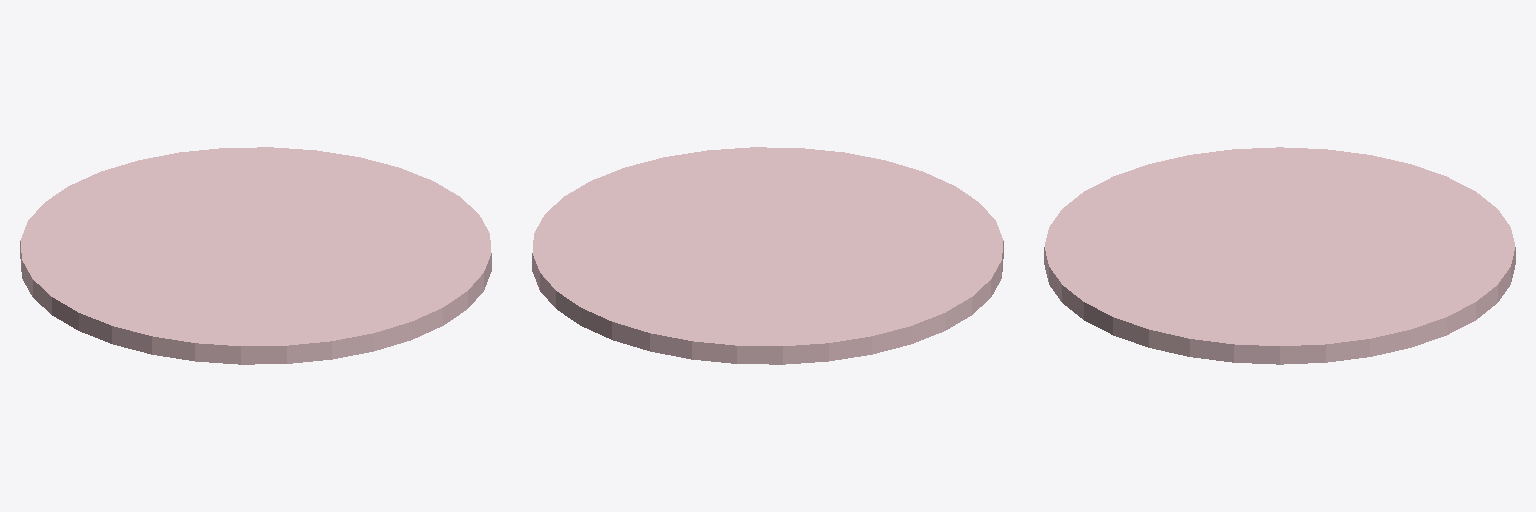
robot.urdf — ham_slice:
<robot name="ham_slice">
  <link name="ham_slice">
    <collision>
      <origin xyz="0.0 0.0 0.0015"/>
      <geometry>
        <cylinder radius="0.035" length="0.003"/>
      </geometry>
    </collision>
    <visual>
      <origin xyz="0.0 0.0 0.0015" />
      <material name="pink meat">
        <color rgba="0.94 0.82 0.84 1.0" />
      </material>
      <geometry>
        <cylinder radius="0.035" length="0.003"/>
      </geometry>
    </visual>
  </link>
</robot>

--- What the picture shows (computed from the rendered views, not written in the file) ---
Views: 3 orthographic renders of the robot side by side, from view 1: azimuth 30°, elevation 25°; view 2: azimuth 150°, elevation 25°; view 3: azimuth 270°, elevation 25°.
Model ham_slice with 1 links and 0 joints (none), rooted at ham_slice, posed every joint at zero.
Visible links, largest first — view 1: ham_slice; view 2: ham_slice; view 3: ham_slice.
Link boxes in pixels (<box>): ham_slice: <box>20,147,491,364</box>; ham_slice: <box>532,147,1003,364</box>; ham_slice: <box>1044,147,1515,364</box>.
Bounding box of the posed robot: 0.07 × 0.07 × 0.003 m (x, y, z).
Geometry: primitives only (box / cylinder / sphere), no mesh files.